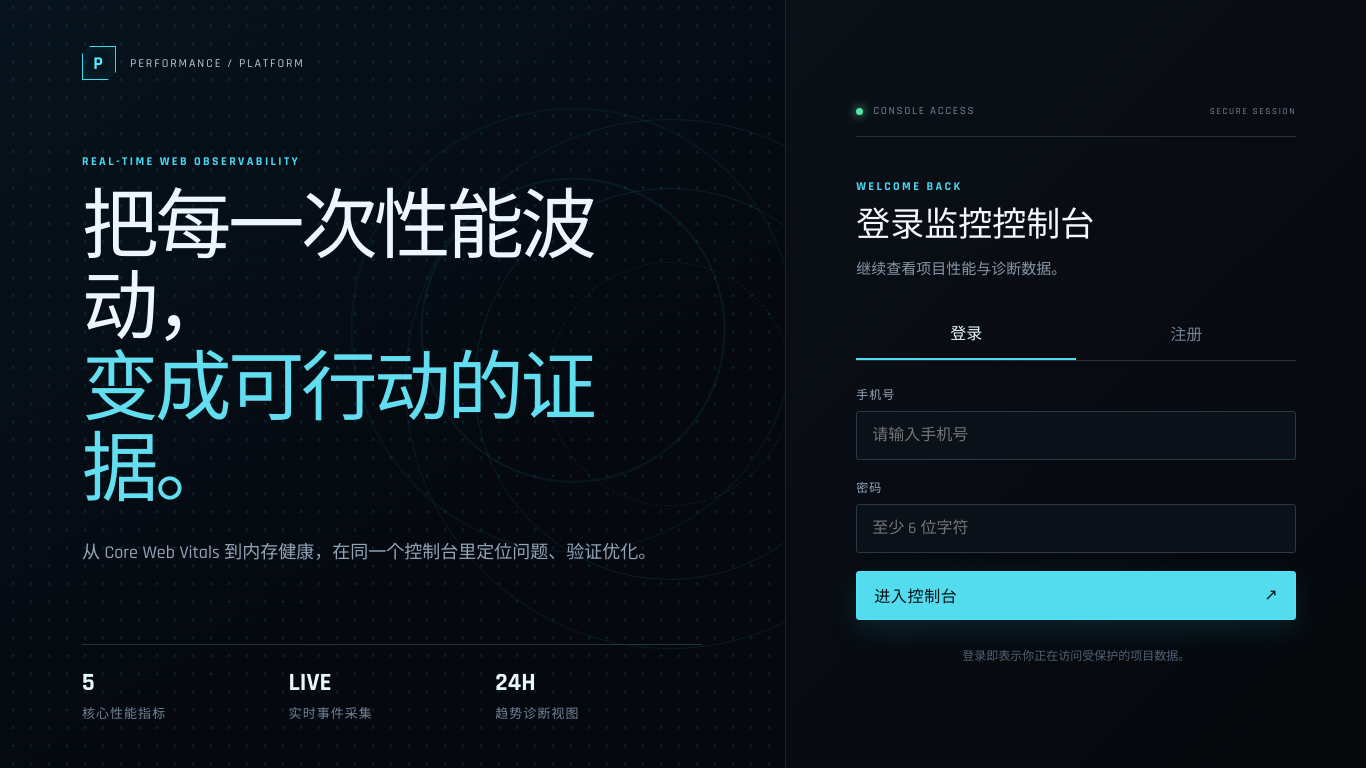
Test case: moves to projects and loads them after Login authenticates
Type "13800000000" into the field labelled "手机号".
click(1076, 435); type("13800000000")  # box [856, 411, 1296, 460]
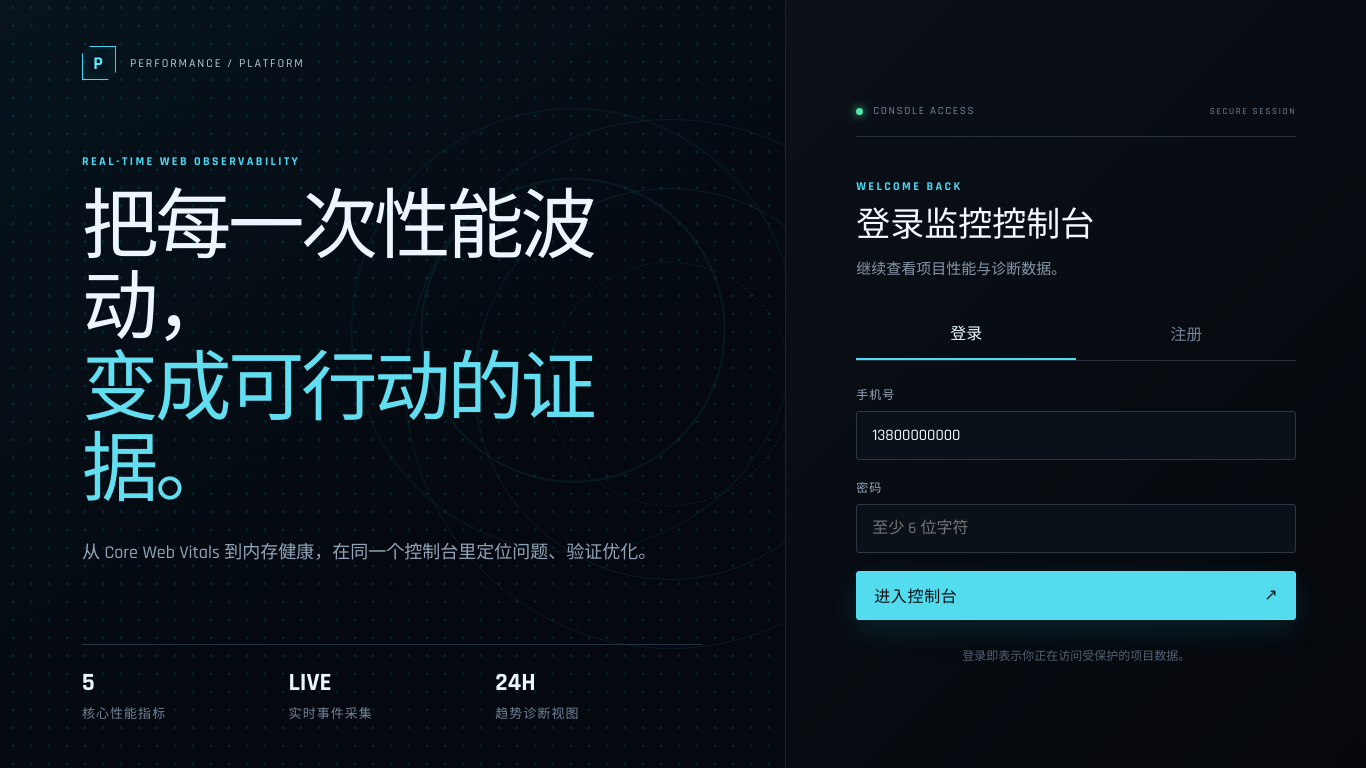
Type "password" into the password field labelled "密码".
click(1076, 528); type("password")  # box [856, 504, 1296, 553]
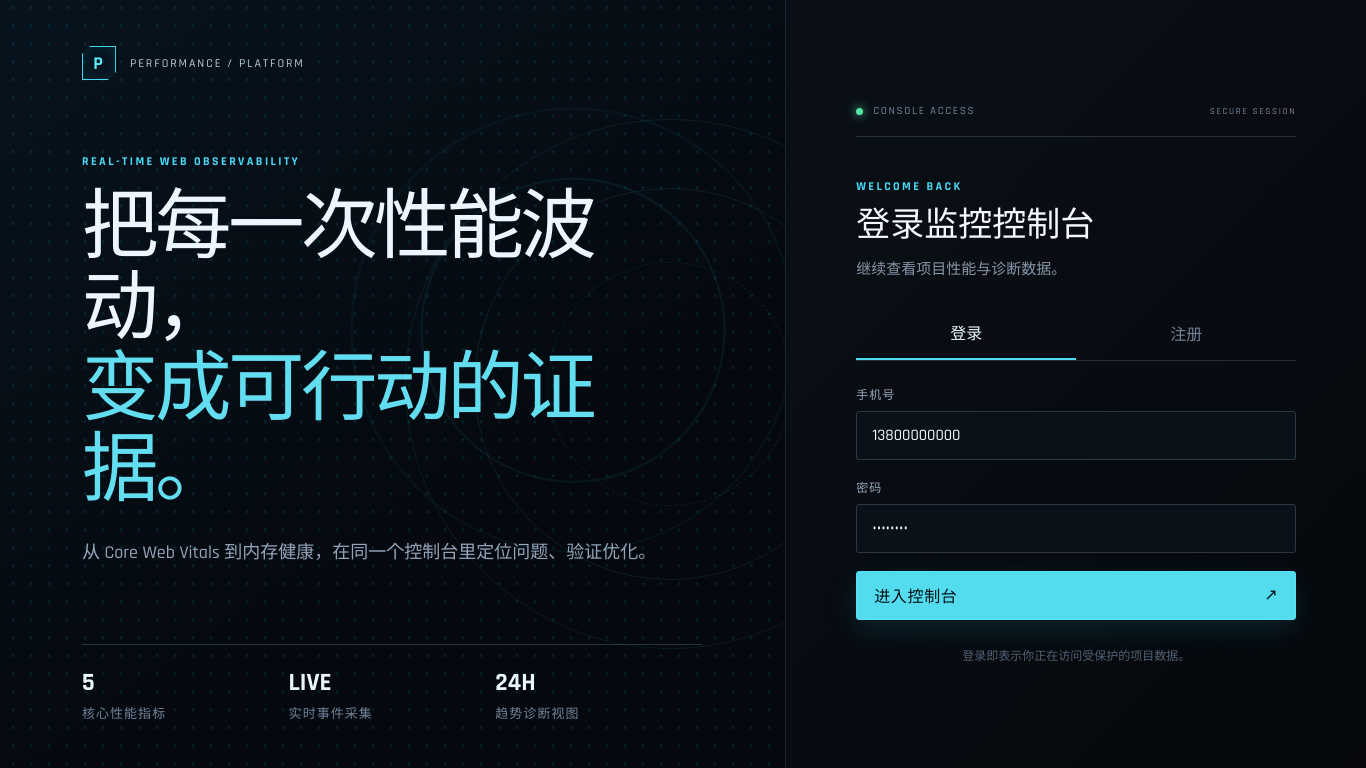
Submit the form with class "stack-form", box [856, 385, 1296, 620]
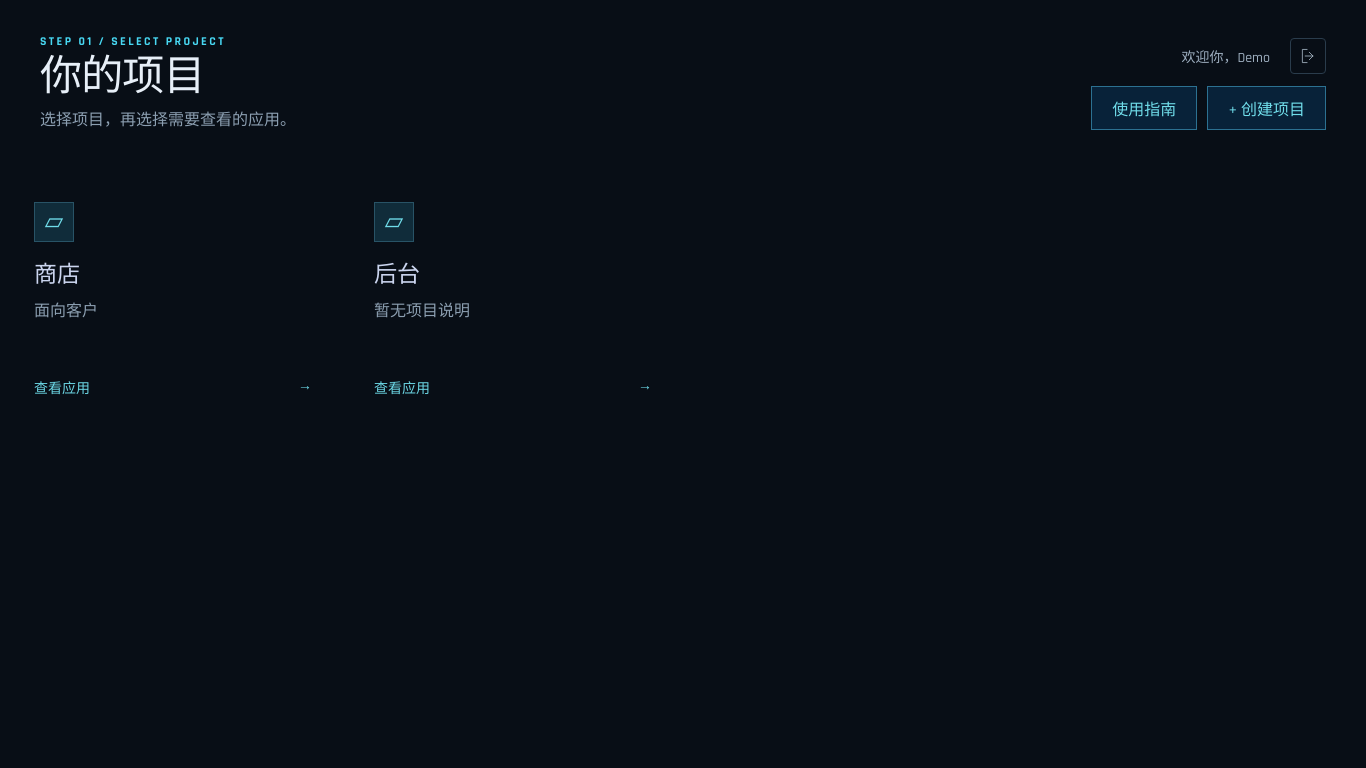
Now the text "你的项目" is shown, box [40, 51, 205, 105]
Now the text "商店" is shown, box [34, 262, 80, 290]
